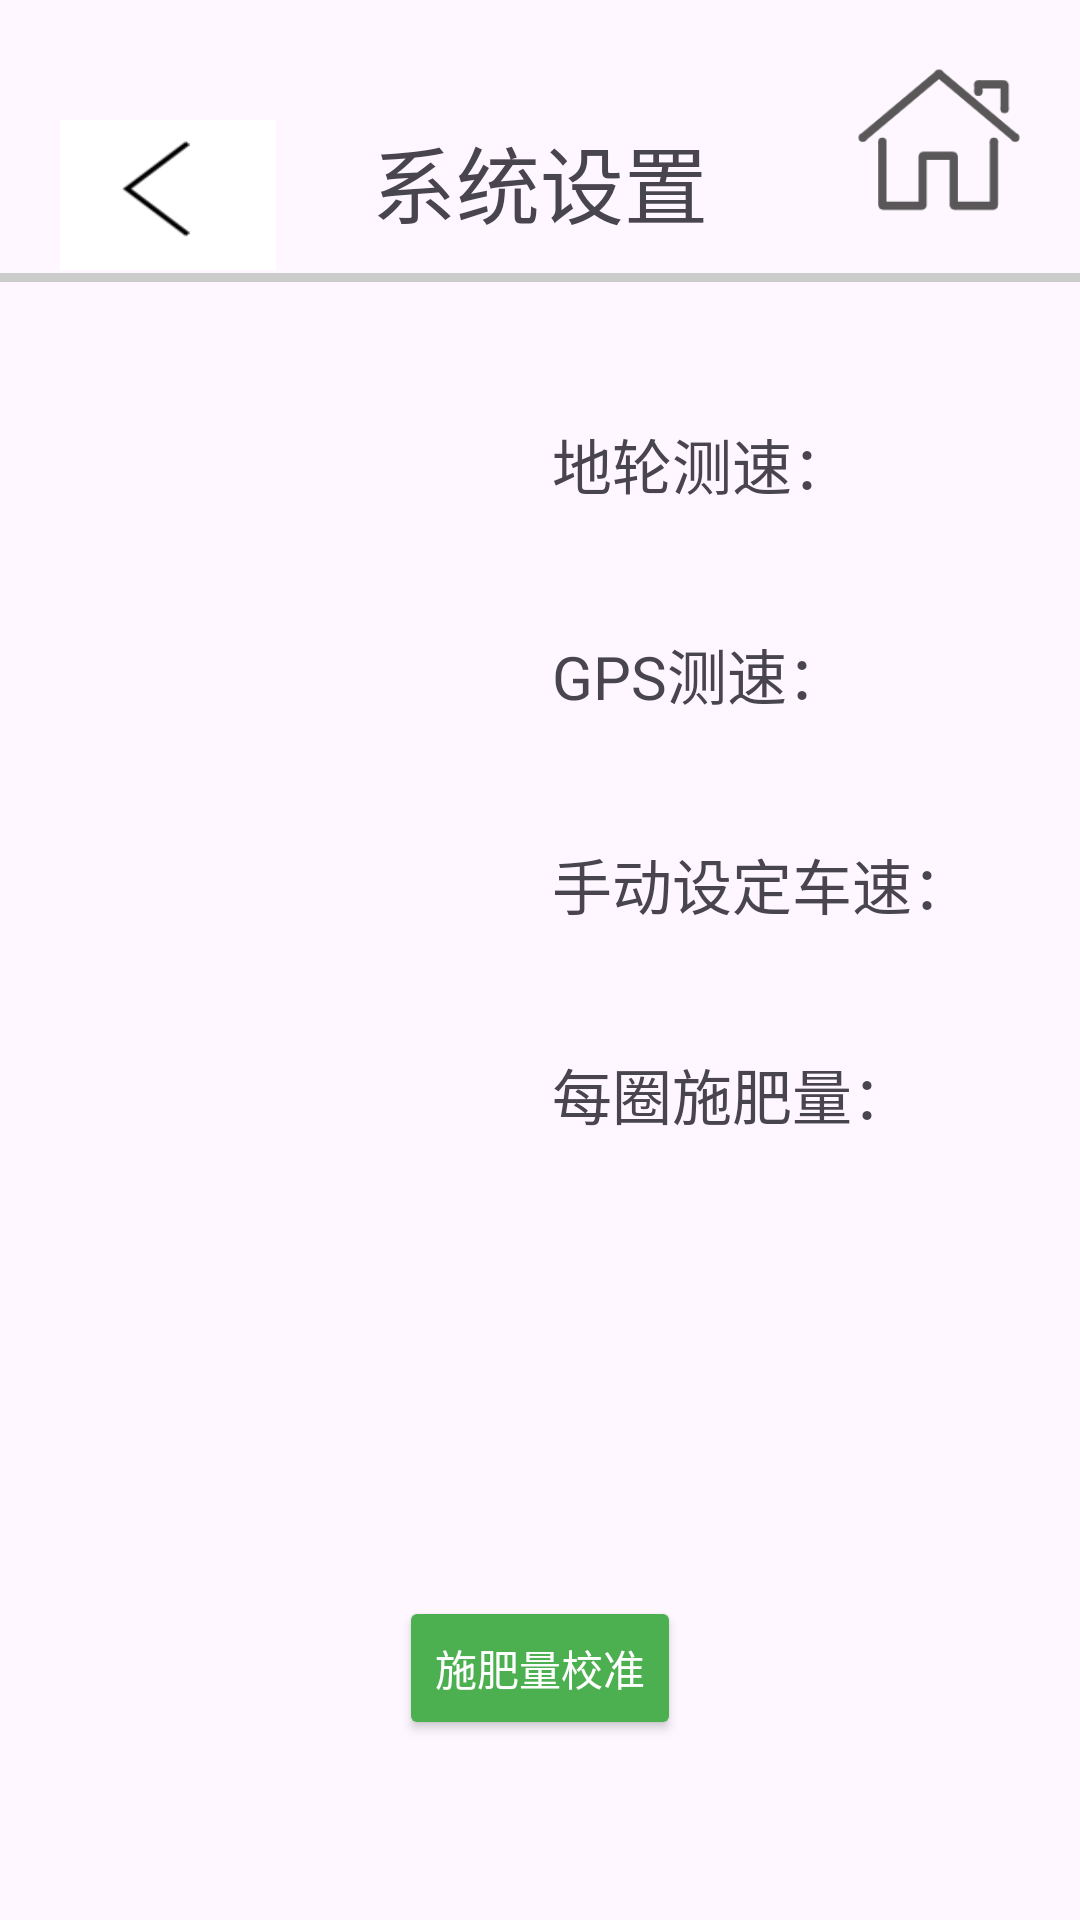

Named icons in this screenshot (1080 × 1920) and their centers, (x=x, y=y):
返回: (x=156, y=189)
返回初始界面: (x=939, y=140)
